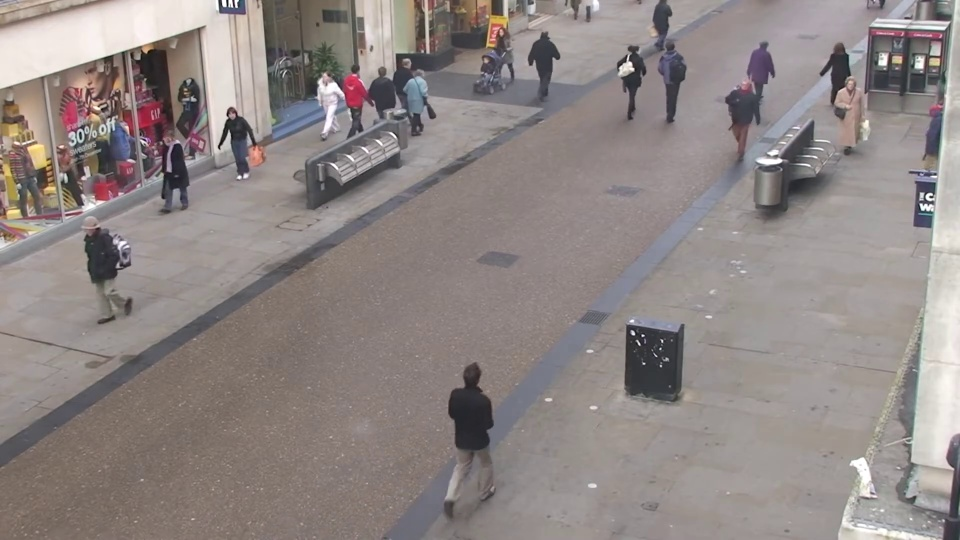pedestrian: (461, 341, 511, 494), (61, 215, 115, 335), (146, 130, 187, 227), (212, 108, 248, 199), (830, 76, 866, 163), (726, 75, 756, 160), (818, 39, 851, 116), (309, 68, 340, 149), (410, 63, 439, 144), (373, 61, 402, 141), (345, 58, 374, 137), (397, 54, 425, 132), (469, 54, 496, 132), (750, 35, 778, 110), (658, 38, 683, 113), (623, 39, 648, 114), (485, 26, 510, 96), (537, 22, 561, 92)
